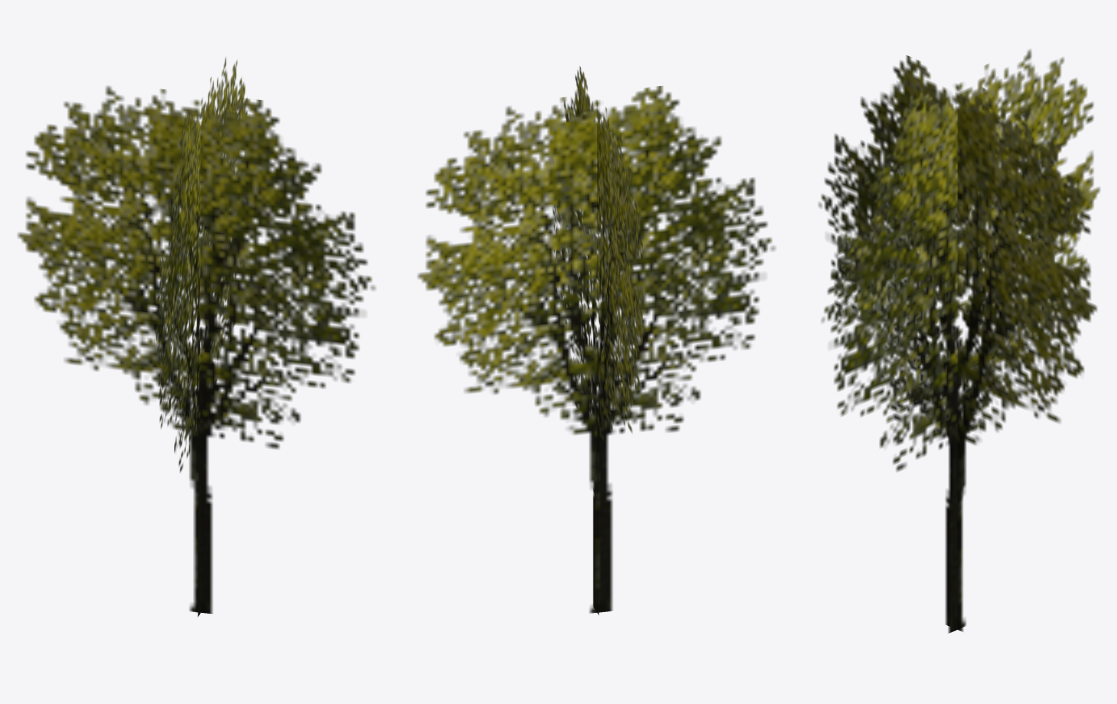
Rendered from tree018.glb.
3 renders of one model, left to right at view 1: azimuth 30°, elevation 25°; view 2: azimuth 150°, elevation 25°; view 3: azimuth 270°, elevation 25°, orthographic. The views are drawn at different scales.
Parts seen in each view (by area): view 1: tree018; view 2: tree018; view 3: tree018.
Boxes of the visible parts, x1,y1,x2,y2 form: tree018: (17,57,375,616); tree018: (417,66,775,614); tree018: (818,49,1100,633).
Size of the model in its own units: 1.43 by 3.1 by 1.43.
1 material, 1 textured.
